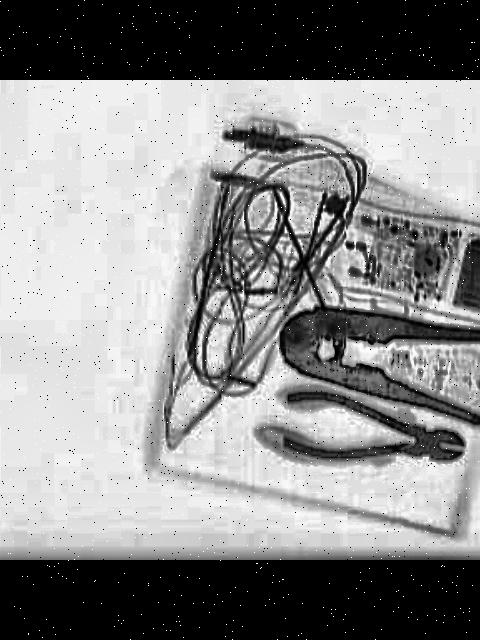Pliers: (266, 290, 480, 427), (276, 389, 474, 485)
